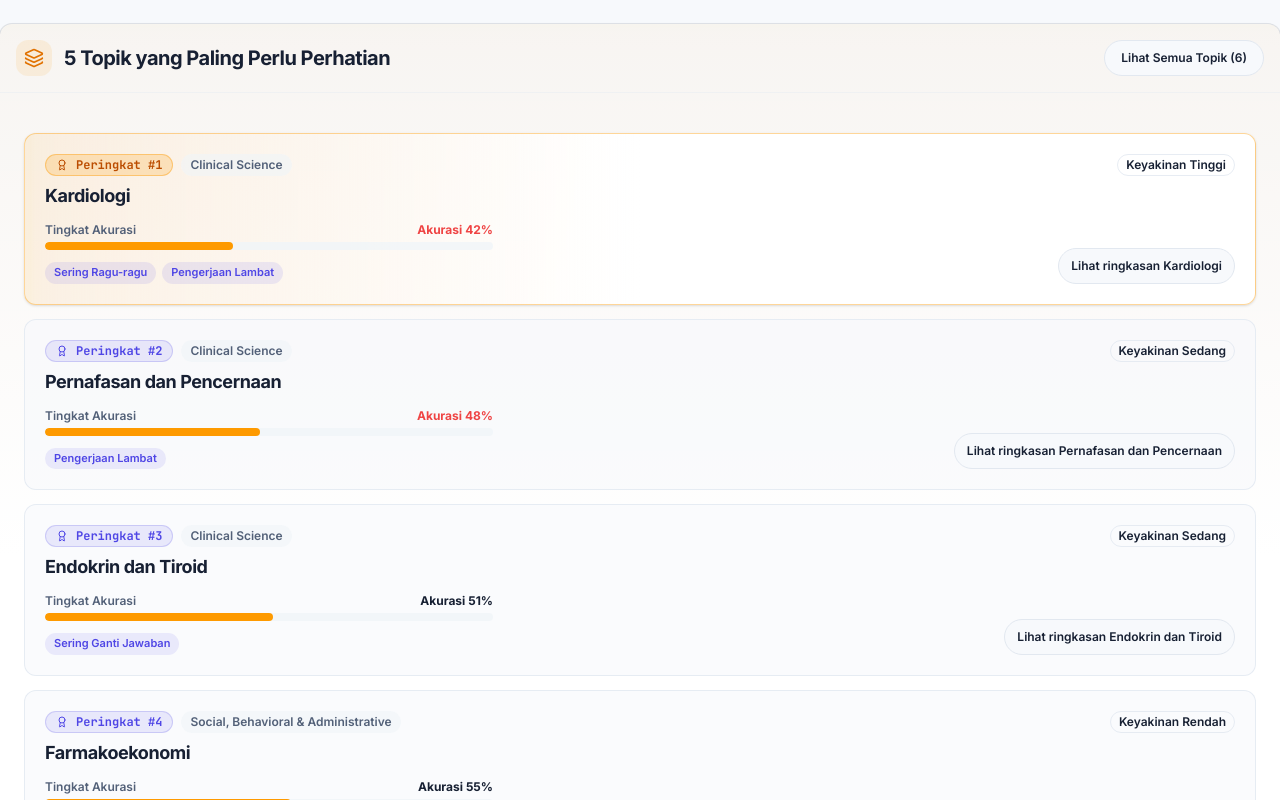
Subtopic ranking list › shows only the first five items until the user expands the list
Check: the text "Pernafasan dan Pencernaan" is shown, box [45, 371, 281, 392]
Click the button "Lihat Semua Topik (6)" at [1184, 58], box [1104, 40, 1264, 76]
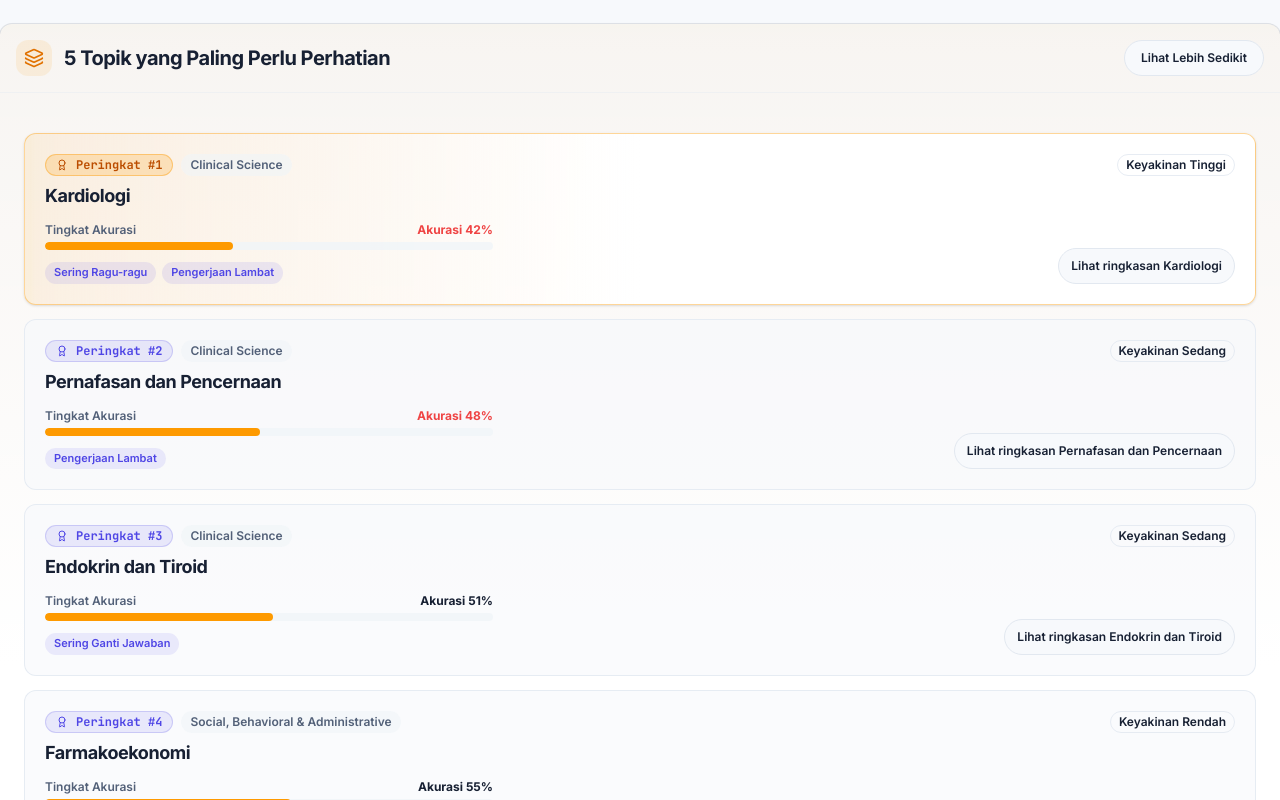
Check: the button "Lihat Lebih Sedikit" is shown, box [1124, 40, 1264, 76]
